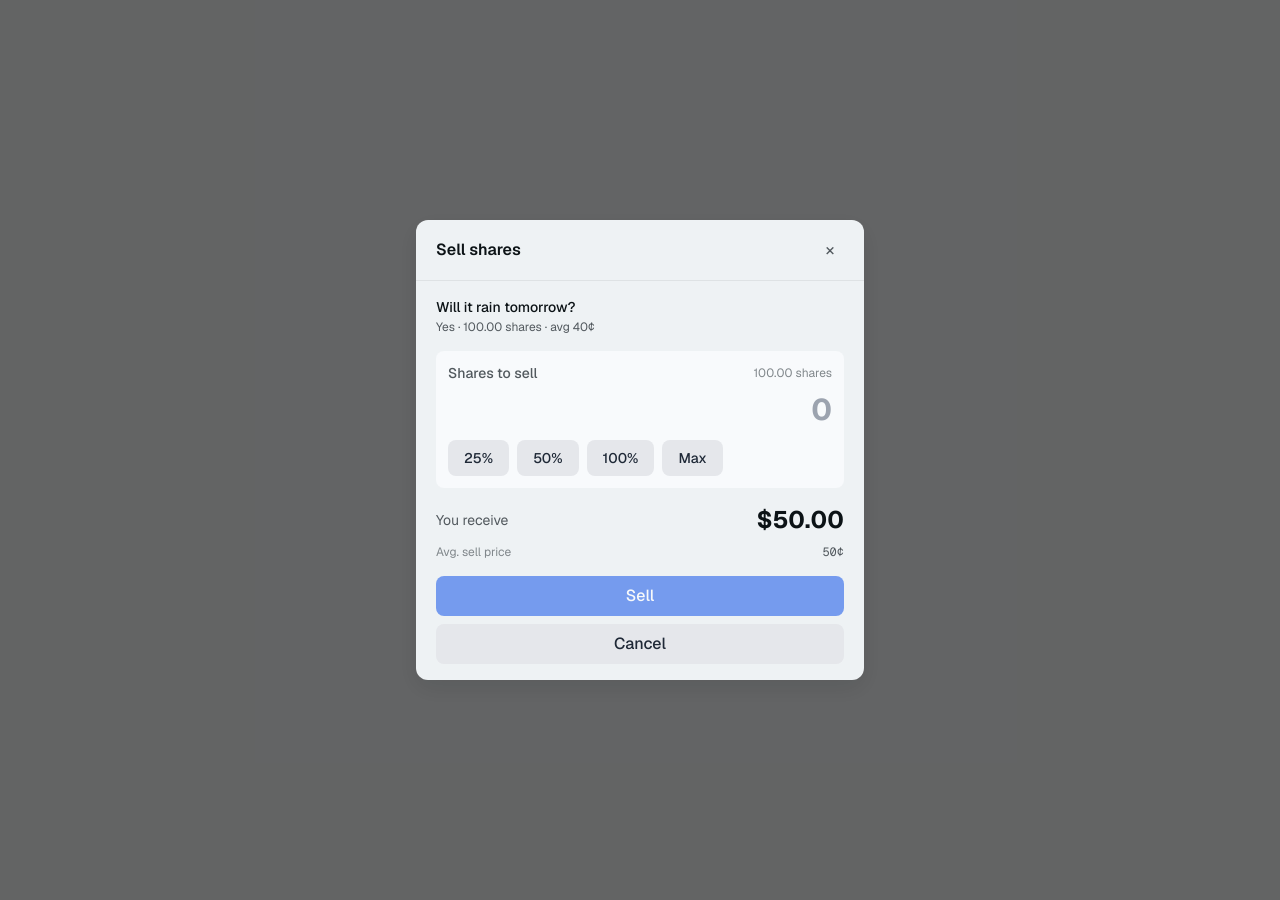
SellSlip › Max fills the full held share count
Click the button "Max". click: point(693, 458)
box: x1=662 y1=440 x2=723 y2=476
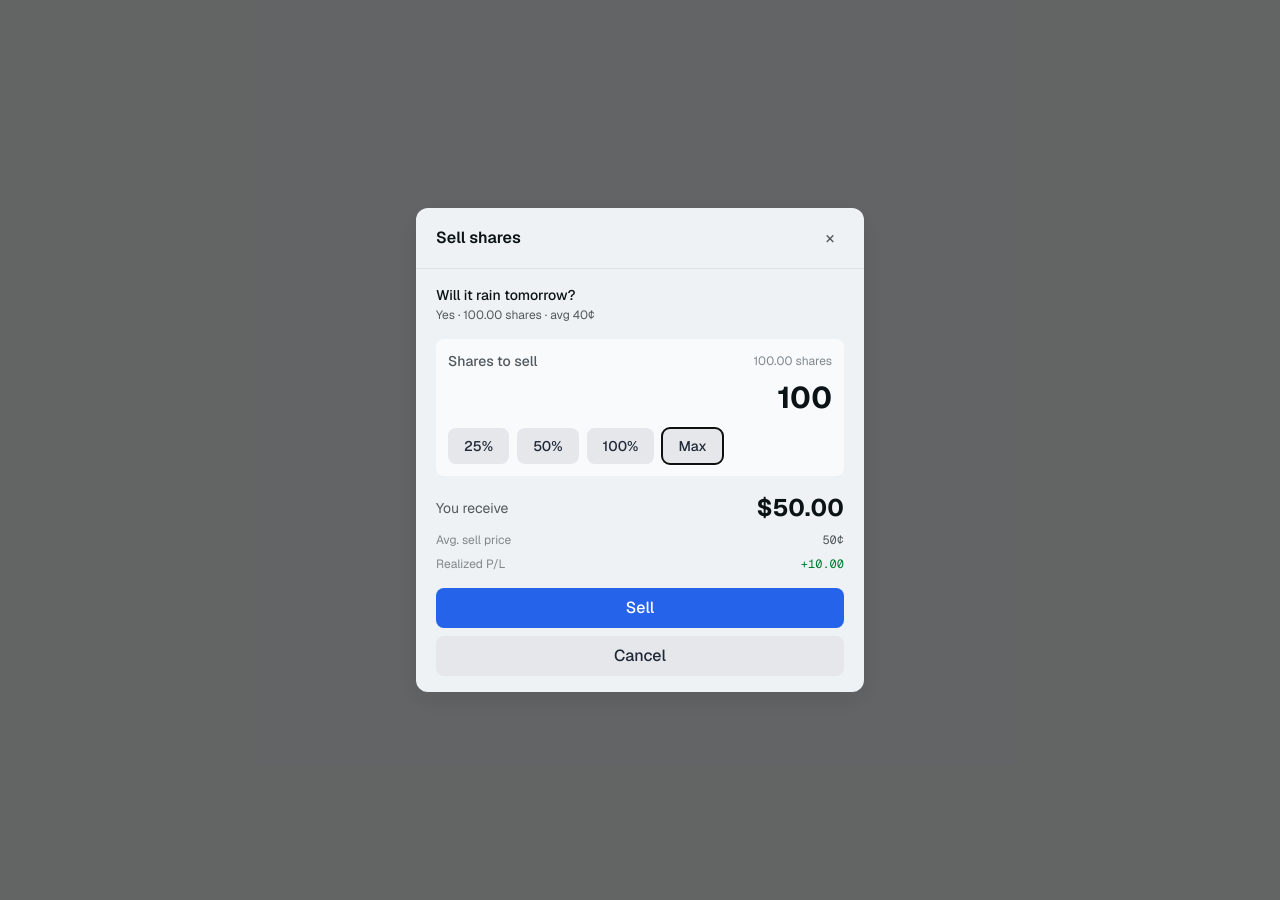
Result: the field labelled "Shares to sell" holds "100" at x1=448 y1=379 x2=832 y2=416
